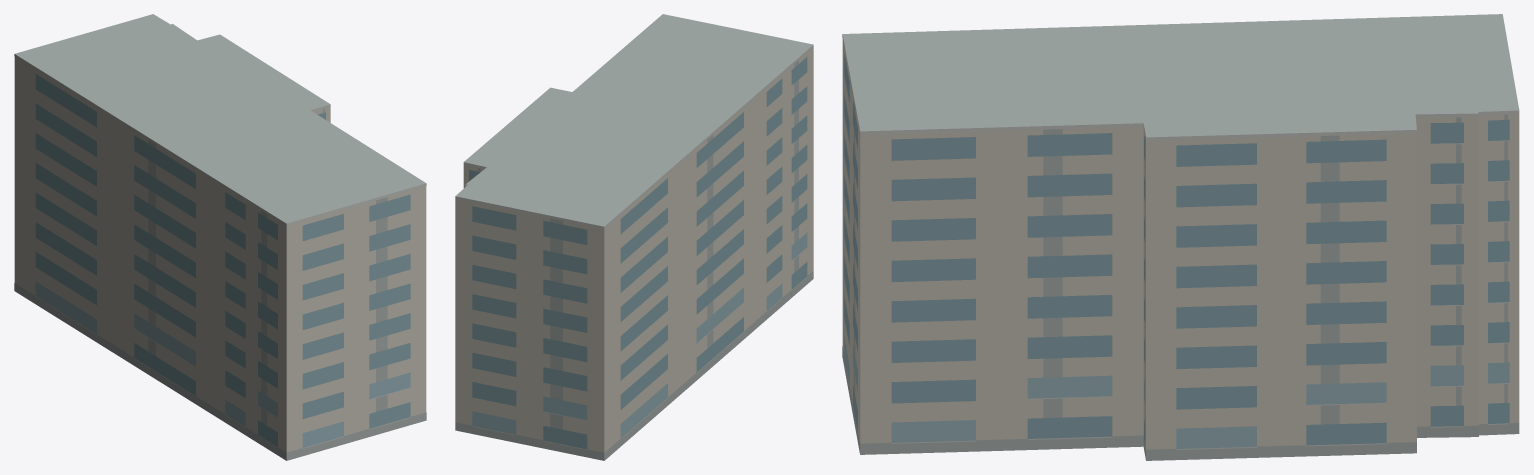
The model's file is survey-upis-32742092.glb.
The picture shows the model from 3 angles, left to right: view 1: azimuth 30°, elevation 25°; view 2: azimuth 150°, elevation 25°; view 3: azimuth 270°, elevation 25°; orthographic projection. The views are drawn at different scales.
Parts seen in each view (by area): view 1: survey-upis-32742092.tmp; view 2: survey-upis-32742092.tmp; view 3: survey-upis-32742092.tmp.
Boxes of the visible parts, box(x1,y1,x2,y2) form: survey-upis-32742092.tmp: box(14, 14, 426, 460); survey-upis-32742092.tmp: box(455, 14, 813, 460); survey-upis-32742092.tmp: box(842, 14, 1519, 460).
Bounding box in the file's own units: 18.25 × 22.3 × 42.29.
